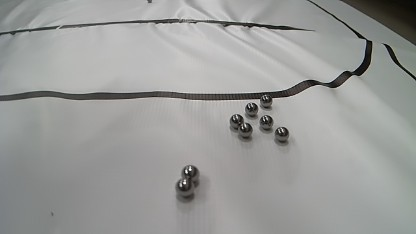ironball: (175, 177, 194, 197), (181, 165, 200, 183), (274, 126, 289, 142), (238, 122, 253, 138), (229, 114, 244, 129), (259, 115, 273, 129), (245, 102, 258, 116), (260, 94, 272, 107), (147, 0, 152, 2)
